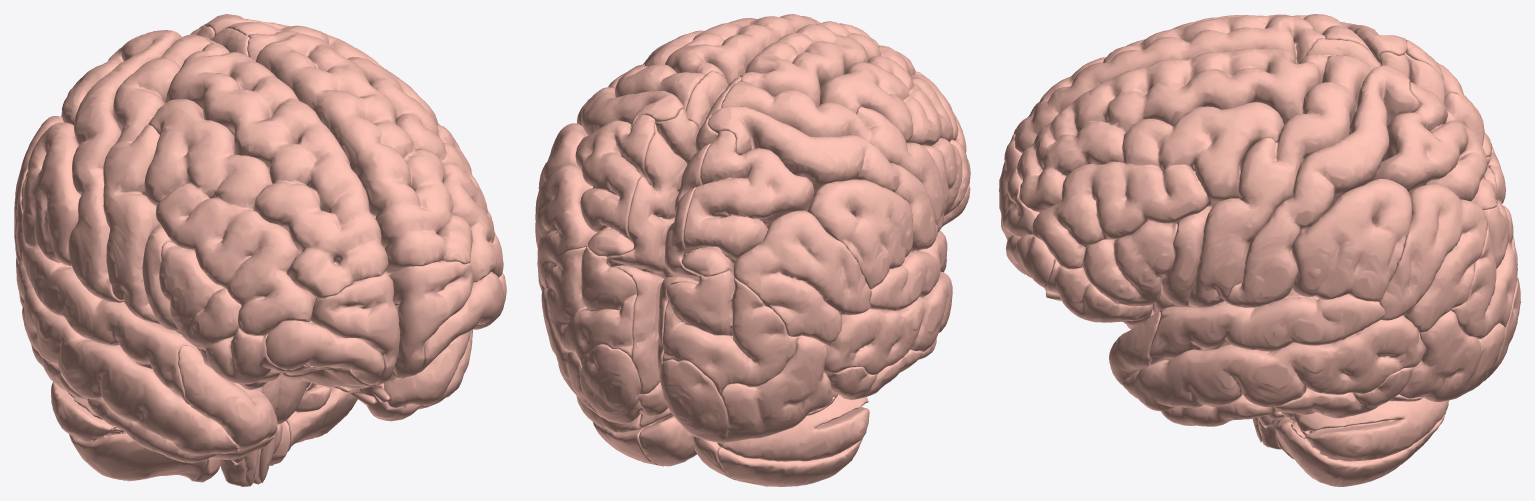
Rendered from Allen_M_Brain.glb.
The picture shows the model from 3 angles, left to right: view 1: azimuth 30°, elevation 25°; view 2: azimuth 150°, elevation 25°; view 3: azimuth 270°, elevation 25°; orthographic projection. The views are drawn at different scales.
Visible parts, largest first — view 1: Allen_superior_frontal_gyrus_L, Allen_middle_frontal_gyrus_L, Allen_superior_frontal_gyrus_R, Allen_middle_temporal_gyrus_L, Allen_precentral_gyrus_L, Allen_postcentral_gyrus_L, Allen_superior_temporal_gyrus_L, Allen_middle_frontal_gyrus_R, Allen_supramarginal_gyrus_L, Allen_rostral_gyrus_R, Allen_lateral_hemisphere_of_cerebellum_L, Allen_inferior_frontal_gyrus_triangular_part_L (+19 smaller); view 2: Allen_angular_gyrus_L, Allen_supraparietal_lobule_L, Allen_superior_occipital_gyrus_L, Allen_postcentral_gyrus_L, Allen_lateral_hemisphere_of_cerebellum_L, Allen_superior_occipital_gyrus_R, Allen_supraparietal_lobule_R, Allen_precentral_gyrus_L, Allen_supramarginal_gyrus_L, Allen_middle_frontal_gyrus_L, Allen_superior_frontal_gyrus_L, Allen_inferior_occipital_gyrus_L (+24 smaller); view 3: Allen_middle_frontal_gyrus_R, Allen_superior_frontal_gyrus_R, Allen_middle_temporal_gyrus_R, Allen_precentral_gyrus_R, Allen_postcentral_gyrus_R, Allen_supramarginal_gyrus_R, Allen_angular_gyrus_R, Allen_superior_temporal_gyrus_R, Allen_lateral_hemisphere_of_cerebellum_R, Allen_superior_frontal_gyrus_L, Allen_supraparietal_lobule_R, Allen_inferior_frontal_gyrus_triangular_part_R (+16 smaller).
Part boxes in pixels (x1,y1,x2,y2): Allen_superior_frontal_gyrus_L: [165, 43, 388, 299]; Allen_middle_frontal_gyrus_L: [144, 98, 315, 335]; Allen_superior_frontal_gyrus_R: [247, 31, 472, 273]; Allen_middle_temporal_gyrus_L: [16, 260, 238, 455]; Allen_precentral_gyrus_L: [103, 34, 210, 325]; Allen_postcentral_gyrus_L: [68, 30, 181, 302]; Allen_superior_temporal_gyrus_L: [21, 245, 196, 404]; Allen_middle_frontal_gyrus_R: [347, 56, 503, 282]; Allen_supramarginal_gyrus_L: [21, 122, 81, 266]; Allen_rostral_gyrus_R: [389, 260, 473, 378]; Allen_lateral_hemisphere_of_cerebellum_L: [51, 382, 207, 481]; Allen_inferior_frontal_gyrus_triangular_part_L: [159, 241, 241, 350]; Allen_angular_gyrus_L: [733, 210, 870, 344]; Allen_supraparietal_lobule_L: [681, 130, 814, 276]; Allen_superior_occipital_gyrus_L: [662, 270, 798, 395]; Allen_postcentral_gyrus_L: [707, 106, 938, 251]; Allen_lateral_hemisphere_of_cerebellum_L: [717, 394, 869, 486]; Allen_superior_occipital_gyrus_R: [546, 245, 636, 365]; Allen_supraparietal_lobule_R: [575, 114, 655, 256]; Allen_precentral_gyrus_L: [721, 81, 944, 231]; Allen_supramarginal_gyrus_L: [807, 179, 912, 289]; Allen_middle_frontal_gyrus_L: [819, 55, 966, 152]; Allen_superior_frontal_gyrus_L: [740, 21, 923, 106]; Allen_inferior_occipital_gyrus_L: [721, 335, 836, 442]; Allen_middle_frontal_gyrus_R: [1032, 102, 1284, 269]; Allen_superior_frontal_gyrus_R: [1017, 48, 1327, 212]; Allen_middle_temporal_gyrus_R: [1122, 315, 1425, 411]; Allen_precentral_gyrus_R: [1188, 55, 1371, 307]; Allen_postcentral_gyrus_R: [1225, 65, 1420, 307]; Allen_supramarginal_gyrus_R: [1290, 179, 1412, 301]; Allen_angular_gyrus_R: [1379, 184, 1487, 333]; Allen_superior_temporal_gyrus_R: [1149, 294, 1384, 365]; Allen_lateral_hemisphere_of_cerebellum_R: [1267, 397, 1448, 486]; Allen_superior_frontal_gyrus_L: [1013, 14, 1325, 153]; Allen_supraparietal_lobule_R: [1371, 82, 1497, 209]; Allen_inferior_frontal_gyrus_triangular_part_R: [1082, 220, 1177, 306].
Bounding box in the file's own units: 0.1364 × 0.1461 × 0.167.
